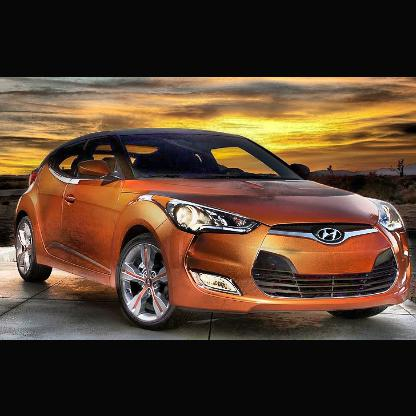Hyundai Veloster Hatchback 2012: (10, 122, 416, 333)
